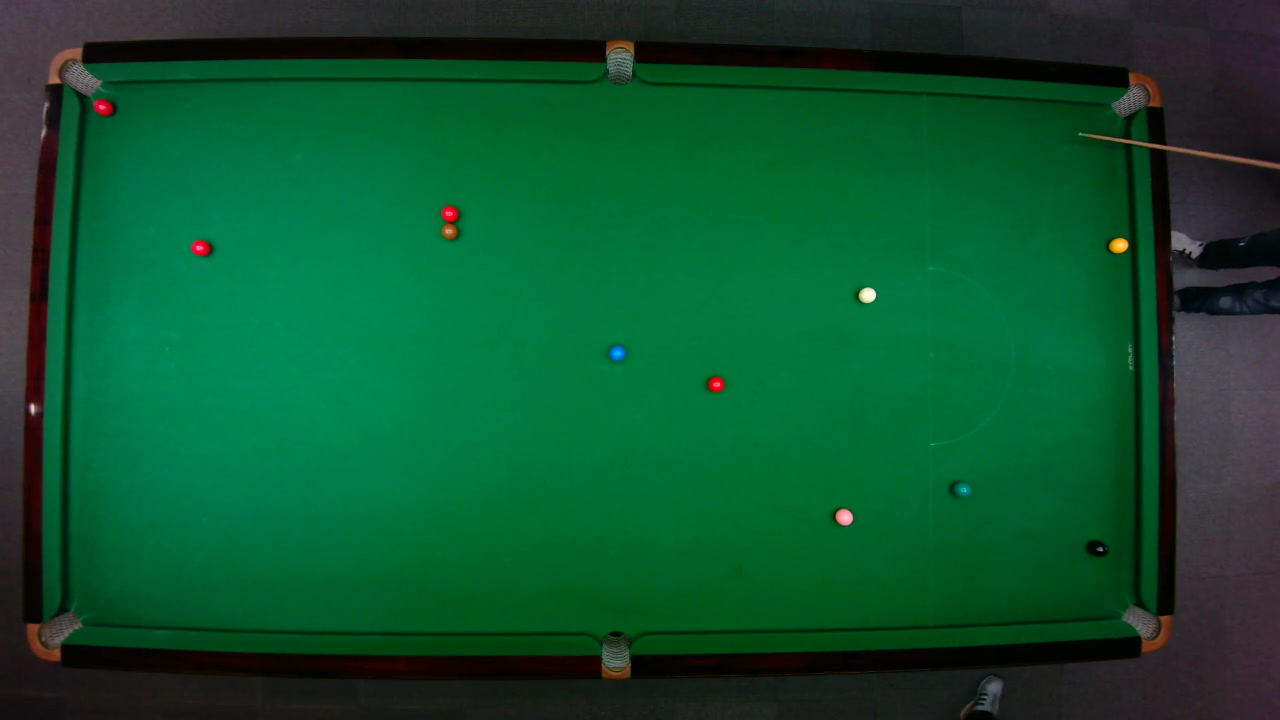bag: (24, 609, 83, 661), (46, 46, 102, 96), (1119, 603, 1172, 652), (1108, 71, 1161, 117), (600, 629, 629, 680), (605, 38, 633, 85)
black: (1087, 539, 1108, 557)
blue: (608, 344, 625, 361)
brown: (440, 223, 458, 240)
cue: (1079, 130, 1280, 171)
green: (950, 480, 972, 497)
pink: (833, 506, 854, 526)
red: (92, 97, 115, 116), (189, 238, 212, 256), (439, 203, 459, 222), (706, 374, 725, 393)
white: (856, 285, 877, 304)
yellow: (1107, 236, 1129, 253)
zone: (927, 265, 1013, 446)
